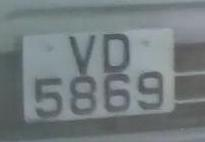5: (31, 70, 70, 124)
6: (98, 69, 138, 117)
8: (65, 74, 103, 122)
9: (131, 66, 169, 117)
D: (97, 28, 138, 76)
V: (67, 31, 101, 78)
